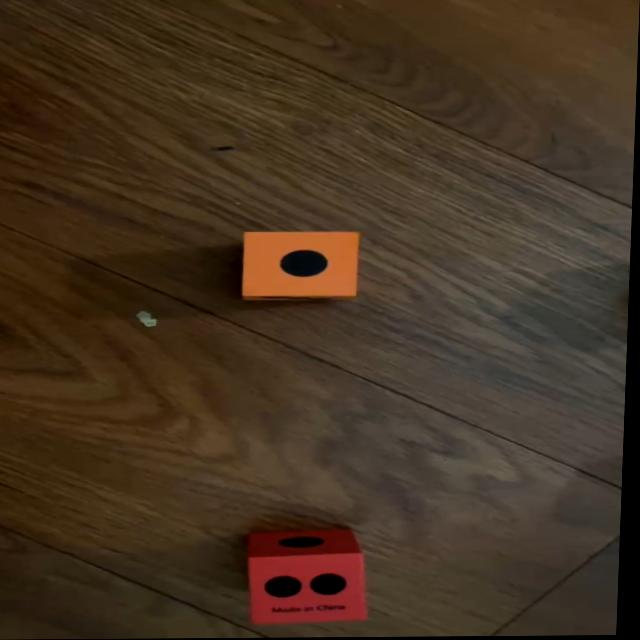cube: (248, 529, 377, 624)
